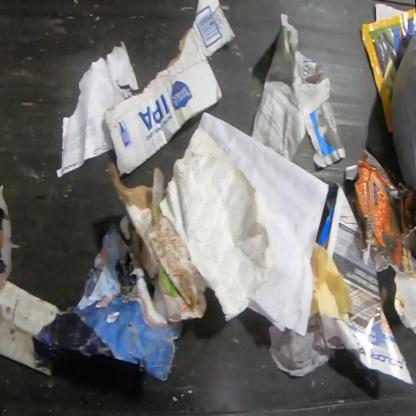cardboard: (105, 0, 236, 178), (108, 163, 207, 327)
soft_plastic: (344, 149, 415, 281), (389, 27, 415, 196)
